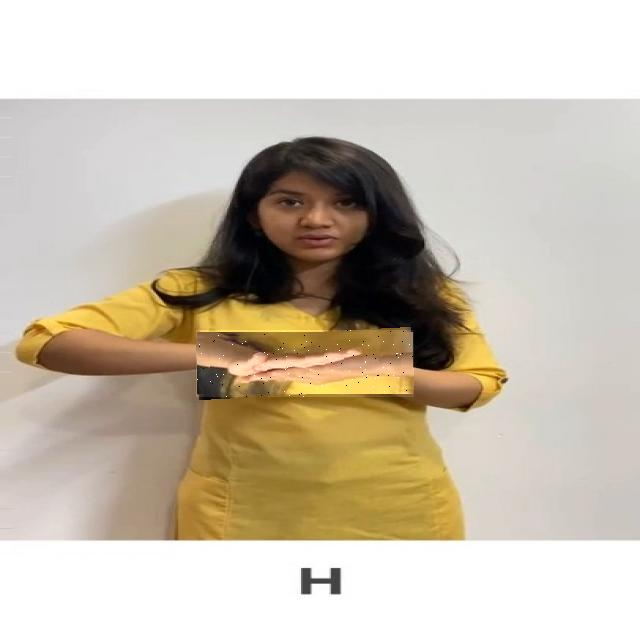H: (196, 330, 414, 397)
